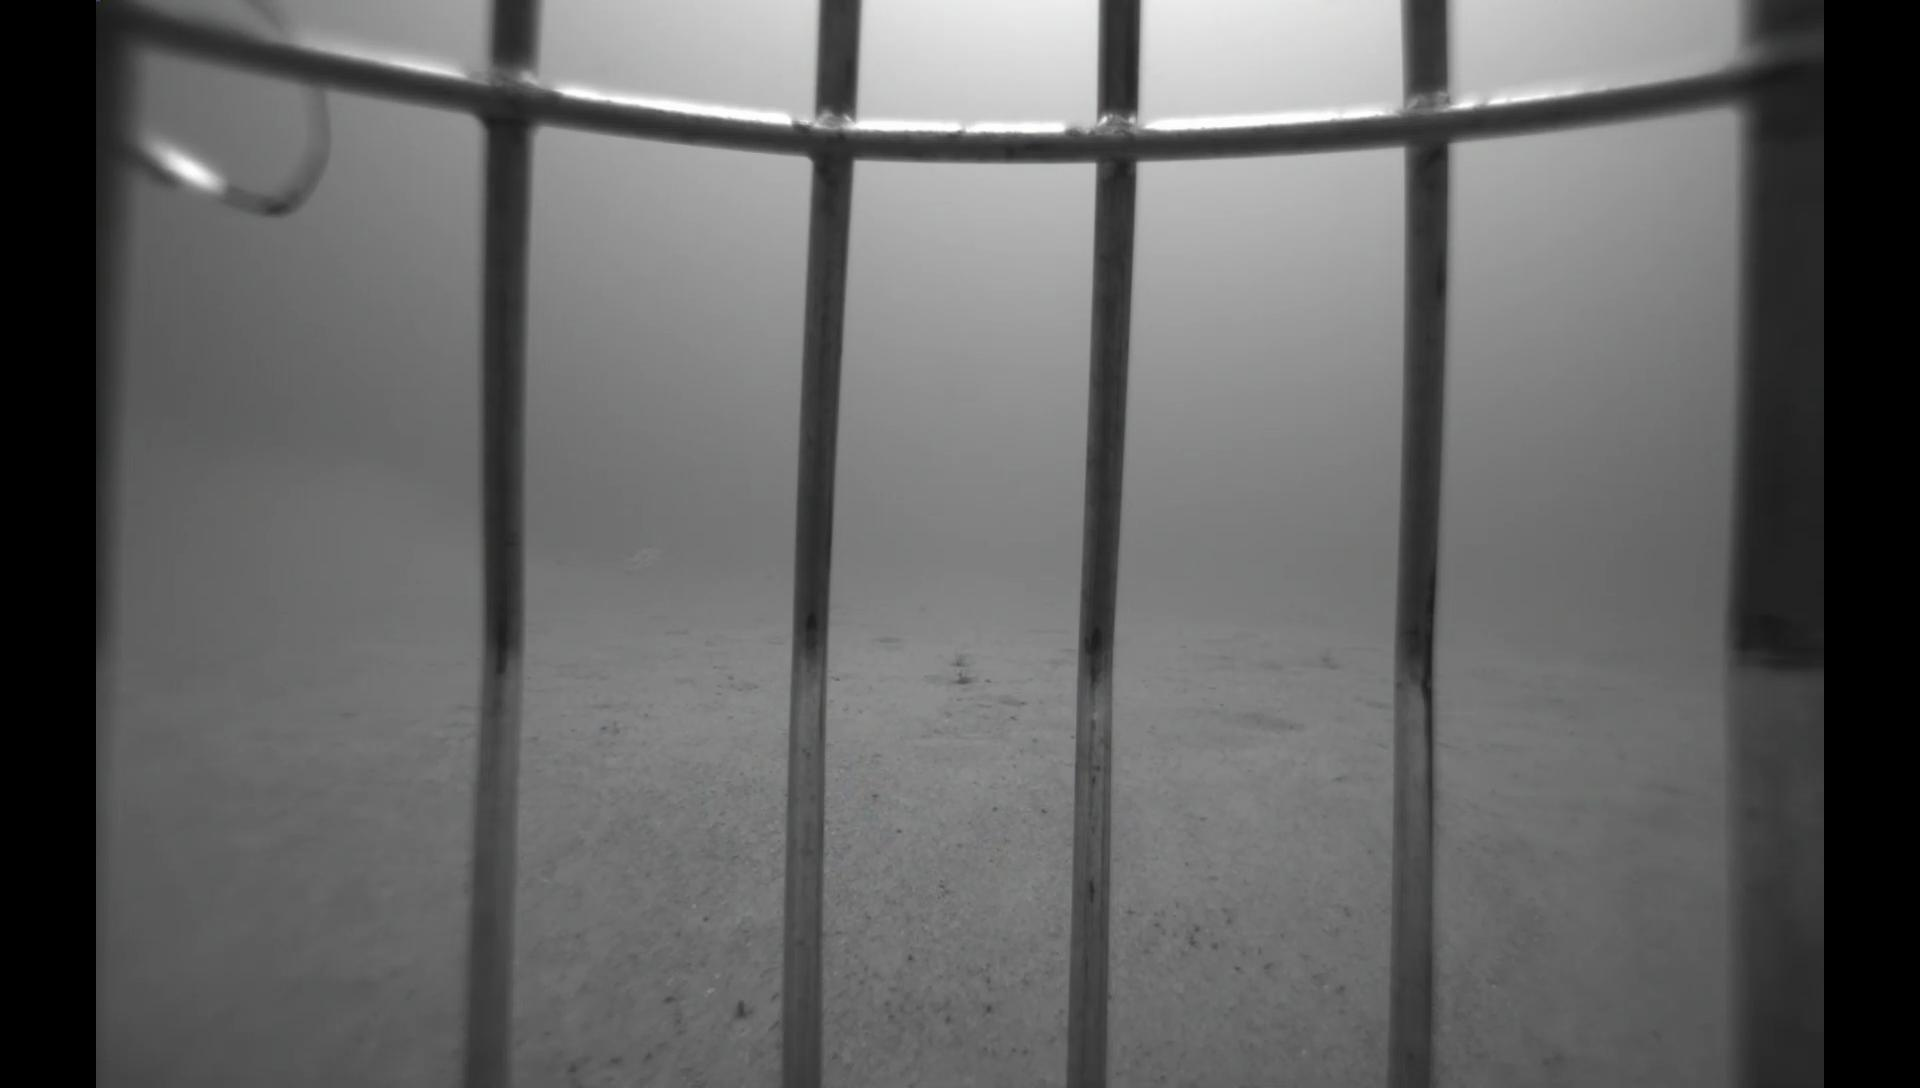CAULOLATILUSCYANOPS-170070101: (615, 539, 669, 583)
